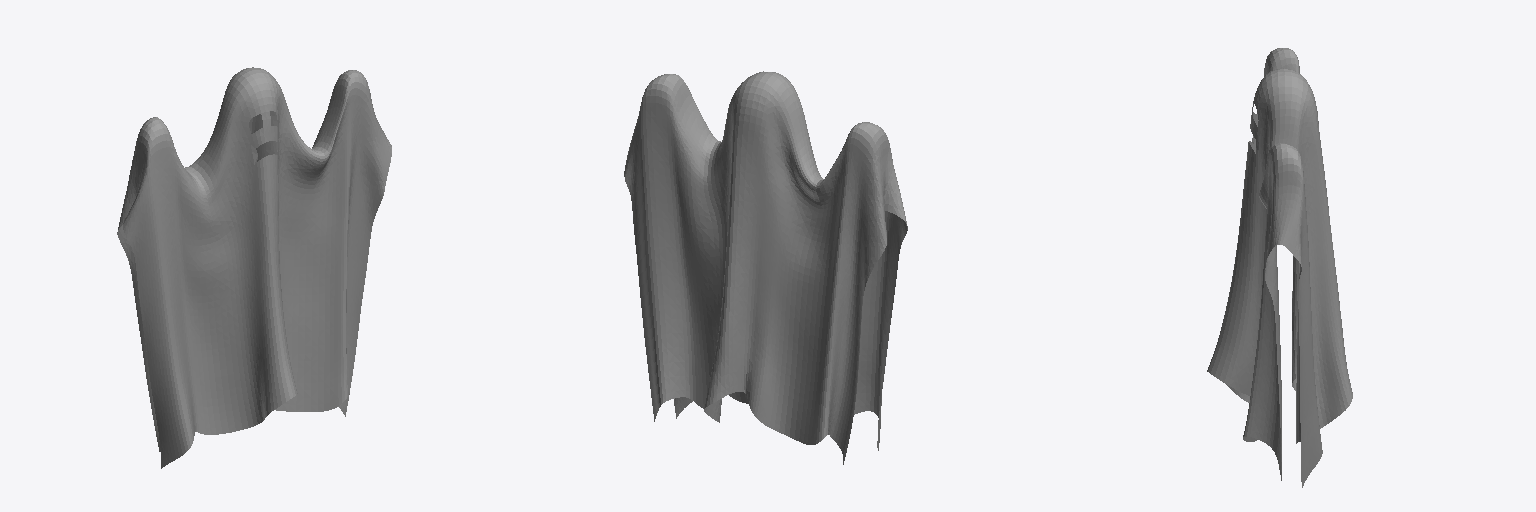
Rendered from ghost.obj.
The picture shows the model from 3 angles: view 1: azimuth 30°, elevation 25°; view 2: azimuth 150°, elevation 25°; view 3: azimuth 270°, elevation 25°; orthographic projection.
Visible parts, largest first — view 1: Ghost_Grid.002; view 2: Ghost_Grid.002; view 3: Ghost_Grid.002.
Boxes of the visible parts, x1=… form: Ghost_Grid.002: x1=117, y1=67, x2=391, y2=468; Ghost_Grid.002: x1=624, y1=71, x2=907, y2=464; Ghost_Grid.002: x1=1207, y1=48, x2=1352, y2=487.
Bounding box in the file's own units: 8.81 × 11.41 × 4.09.